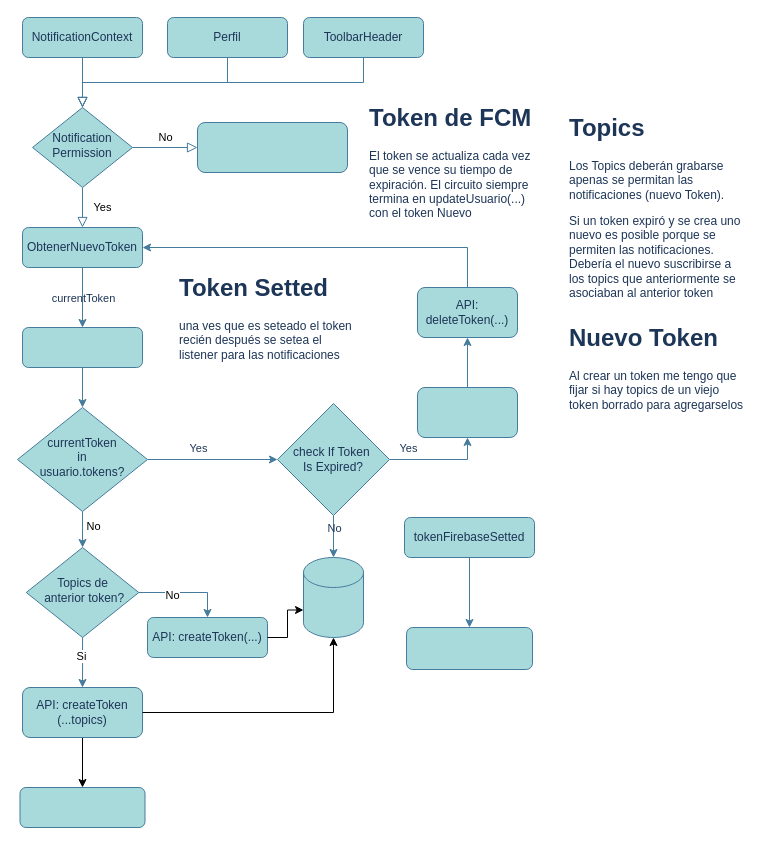
Some shapes in this 765 by 845 pixel diagram are drawn without their labels. The shapes that lost their labels are listed below. From the top down, each one's centre as x and y in pixels, then its label:
At [272,147]: "console('Not permission granted...')".
At [82,347]: "UpdateTokenFirebase".
At [467,412]: "FCM deleteToken(...)".
At [333,597]: "setToken Firebase".
At [469,648]: "Add Listenner to Notifications".
At [82,807]: "updateUsuario(...)".
